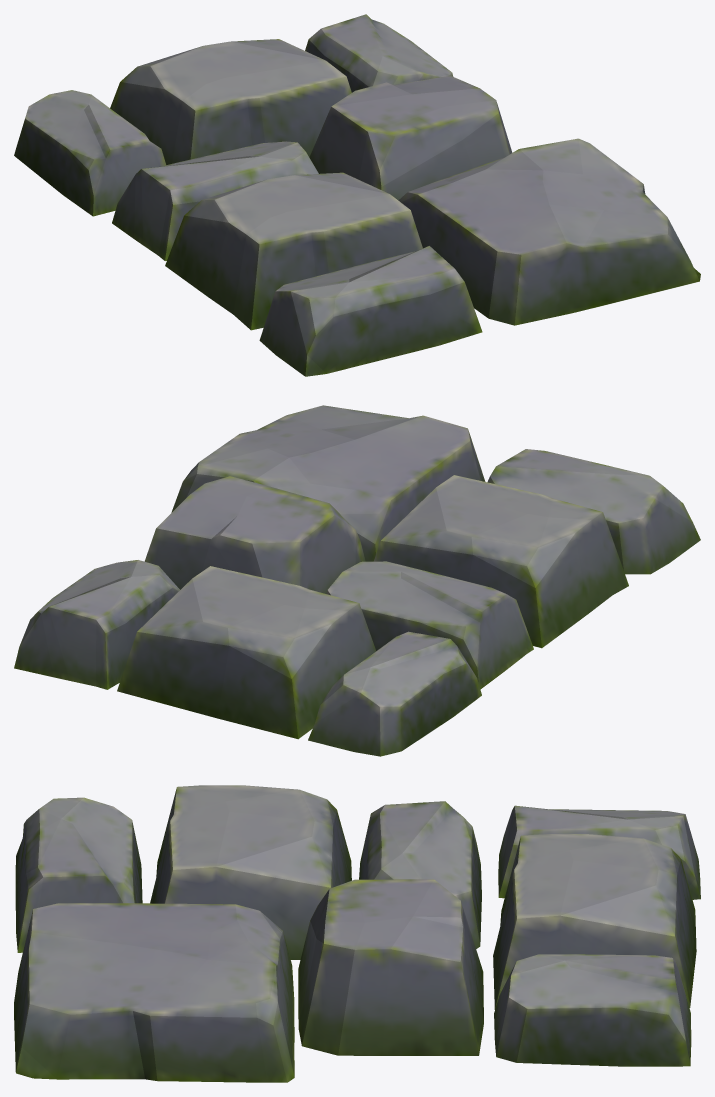
Rendered from RockPath_Square_Small_3.glb.
3 renders of one model, top to bottom at view 1: azimuth 30°, elevation 25°; view 2: azimuth 150°, elevation 25°; view 3: azimuth 270°, elevation 25°, orthographic. The views are drawn at different scales.
Visible parts, largest first — view 1: RockPath_Square_Small_3; view 2: RockPath_Square_Small_3; view 3: RockPath_Square_Small_3.
Part boxes in pixels (x1,y1,x2,y2): RockPath_Square_Small_3: (14, 14, 700, 376); RockPath_Square_Small_3: (14, 405, 700, 756); RockPath_Square_Small_3: (14, 785, 700, 1082).
Bounding box in the file's own units: 0.8359 × 0.1736 × 1.08.
1 material, 1 textured.
